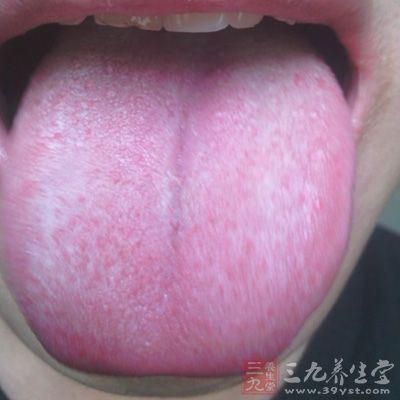baitaishe: (1, 31, 354, 378)
hongshe: (1, 31, 354, 378)
